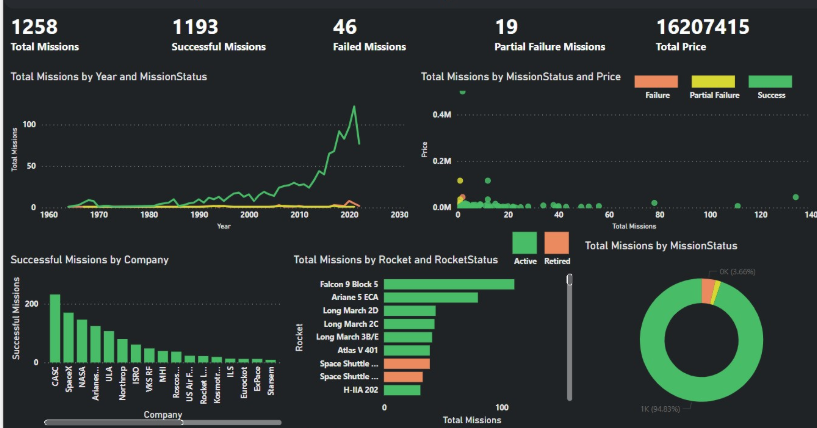

The page's visual inventory and layout, read from the dashboard file:
{"tool":"powerbi","page":{"name":"Rough Dashboard","canvas":[1280,720],"ordinal":0},"visuals":[{"type":"lineChart","fields":{"Category":["Date Table.Year"],"Y":["All Measures.Total Missions"],"Series":["space_missions.MissionStatus"]},"box":[0,149.5,640.4,305.1],"z":0},{"type":"columnChart","fields":{"Y":["All Measures.Successful Missions"],"Category":["space_missions.Company"]},"box":[0,454.7,440.2,265.3],"z":1000},{"type":"barChart","fields":{"Y":["All Measures.Total Missions"],"Category":["space_missions.Rocket"]},"box":[440.2,454.7,437.8,265.3],"z":2000},{"type":"donutChart","fields":{"Y":["All Measures.Total Missions"],"Series":["space_missions.MissionStatus"]},"box":[878,454.7,401.6,264.1],"z":3000},{"type":"scatterChart","fields":{"X":["All Measures.Total Missions"],"Series":["space_missions.MissionStatus"],"Y":["space_missions.Price"]},"box":[640.4,145.9,639.2,308.7],"z":4000},{"type":"card","fields":{"Values":["All Measures.Total Missions"]},"box":[0,0,234,145.9],"z":5000},{"type":"card","fields":{"Values":["All Measures.Successful Missions"]},"box":[234,0,206.2,145.9],"z":6000},{"type":"card","fields":{"Values":["All Measures.Failed Missions"]},"box":[440.2,0,200.2,145.9],"z":7000},{"type":"card","fields":{"Values":["All Measures.Partial Failure Missions"]},"box":[640,0,237,150],"z":8000},{"type":"card","fields":{"Values":["All Measures.Total Price"]},"box":[1086.6,0,193,149.5],"z":9000}]}

Visuals, with their boxes on the page's 1280x720 design canvas (x1, y1, x2, y2). These are canvas units, not pixel positions in the 817x428 screenshot, which may show the page scaled, cropped or inside an application window:
lineChart - Date Table.Year x All Measures.Total Missions: bbox(0, 150, 640, 455)
columnChart - All Measures.Successful Missions x space_missions.Company: bbox(0, 455, 440, 720)
barChart - All Measures.Total Missions x space_missions.Rocket: bbox(440, 455, 878, 720)
donutChart - All Measures.Total Missions x space_missions.MissionStatus: bbox(878, 455, 1280, 719)
scatterChart - All Measures.Total Missions x space_missions.MissionStatus: bbox(640, 146, 1280, 455)
card - All Measures.Total Missions: bbox(0, 0, 234, 146)
card - All Measures.Successful Missions: bbox(234, 0, 440, 146)
card - All Measures.Failed Missions: bbox(440, 0, 640, 146)
card - All Measures.Partial Failure Missions: bbox(640, 0, 877, 150)
card - All Measures.Total Price: bbox(1087, 0, 1280, 150)
